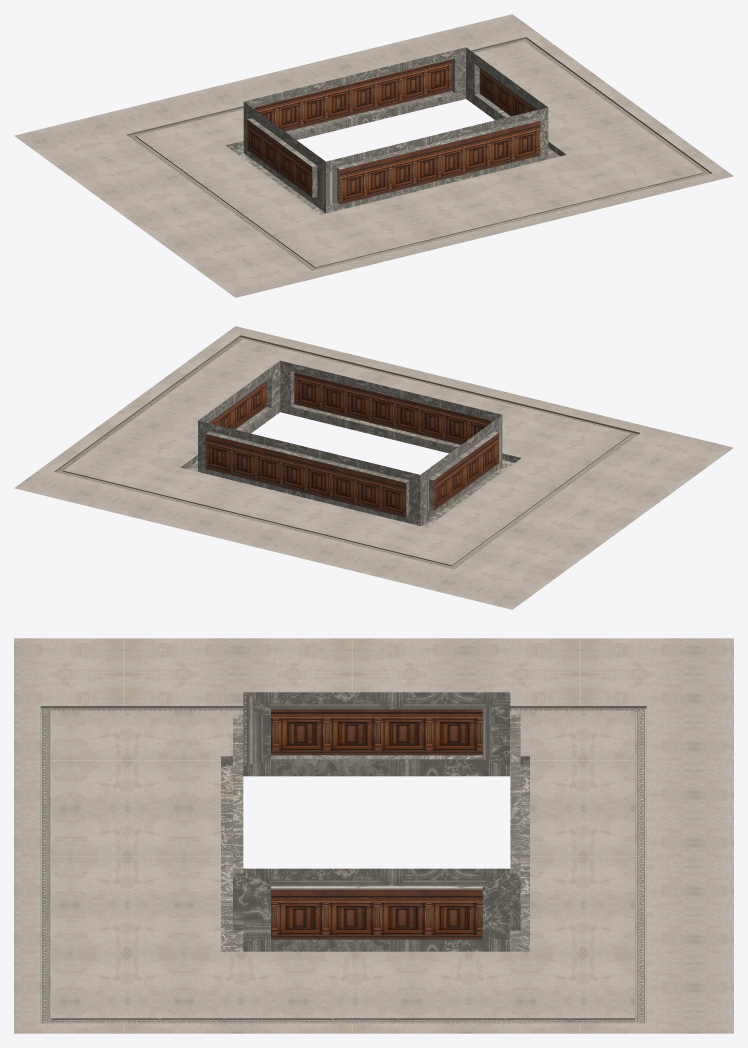
File: Atrium_Ceilingbit.fbx
3 renders of one model, top to bottom at view 1: azimuth 30°, elevation 25°; view 2: azimuth 150°, elevation 25°; view 3: azimuth 270°, elevation 25°, orthographic. The views are drawn at different scales.
Visible parts, largest first — view 1: Plane.001; view 2: Plane.001; view 3: Plane.001.
Boxes of the visible parts, <box> form: Plane.001: <box>14,14,733,297</box>; Plane.001: <box>14,326,733,609</box>; Plane.001: <box>14,638,733,1033</box>.
Bounding box in the file's own units: 777 × 76.96 × 598.
